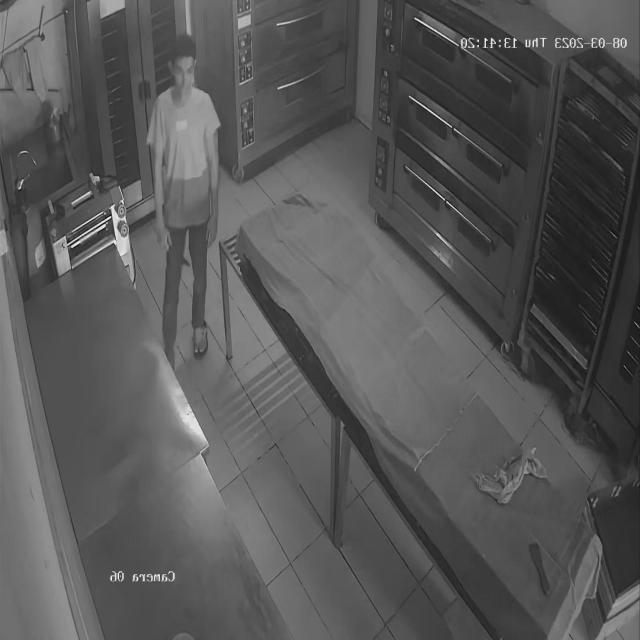Knife: (159, 224, 199, 277)
